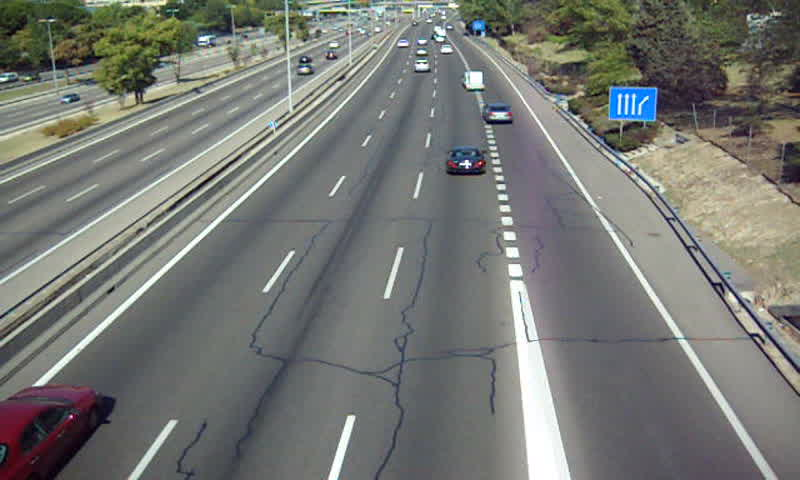car: (445, 148, 487, 176), (484, 103, 511, 124), (413, 60, 430, 72)
van: (463, 71, 484, 90)
